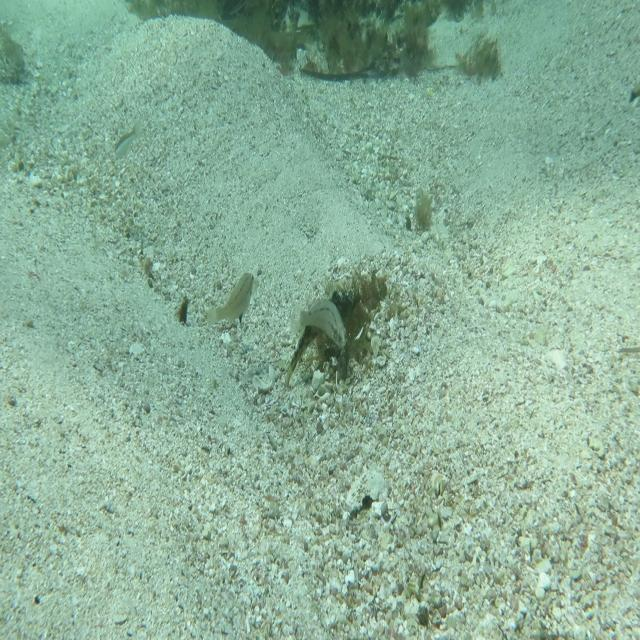Coris_julis_female: (112, 114, 146, 163)
LF: (282, 274, 364, 397)
female: (287, 288, 353, 352)
nest: (302, 260, 399, 375)
other_fish: (202, 265, 256, 333)
